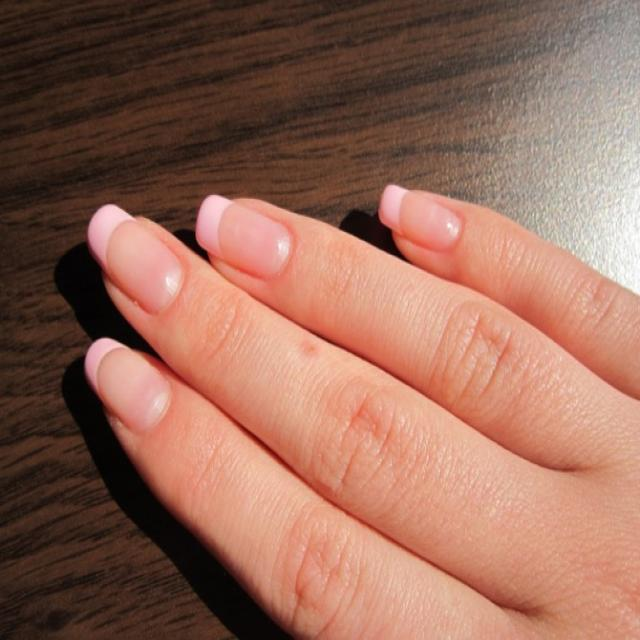Nail: (89, 205, 180, 313), (197, 195, 292, 279), (85, 338, 169, 431), (380, 185, 460, 251)
